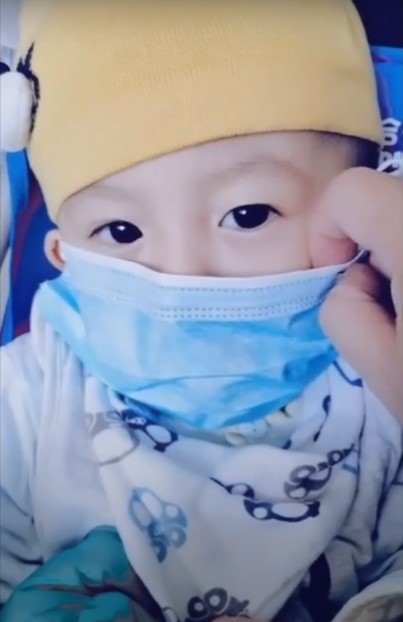face_with_mask: (25, 0, 400, 439)
